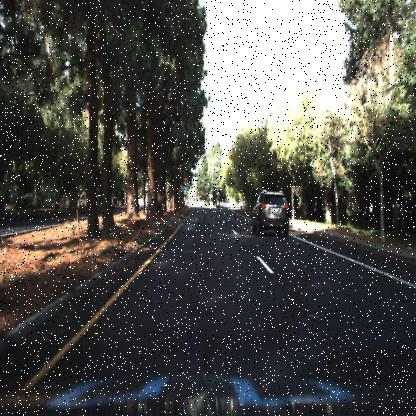car: (248, 190, 290, 240)
